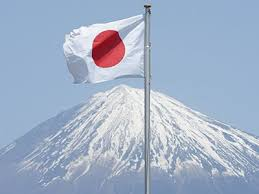Japanese Flag: (60, 10, 149, 86)
